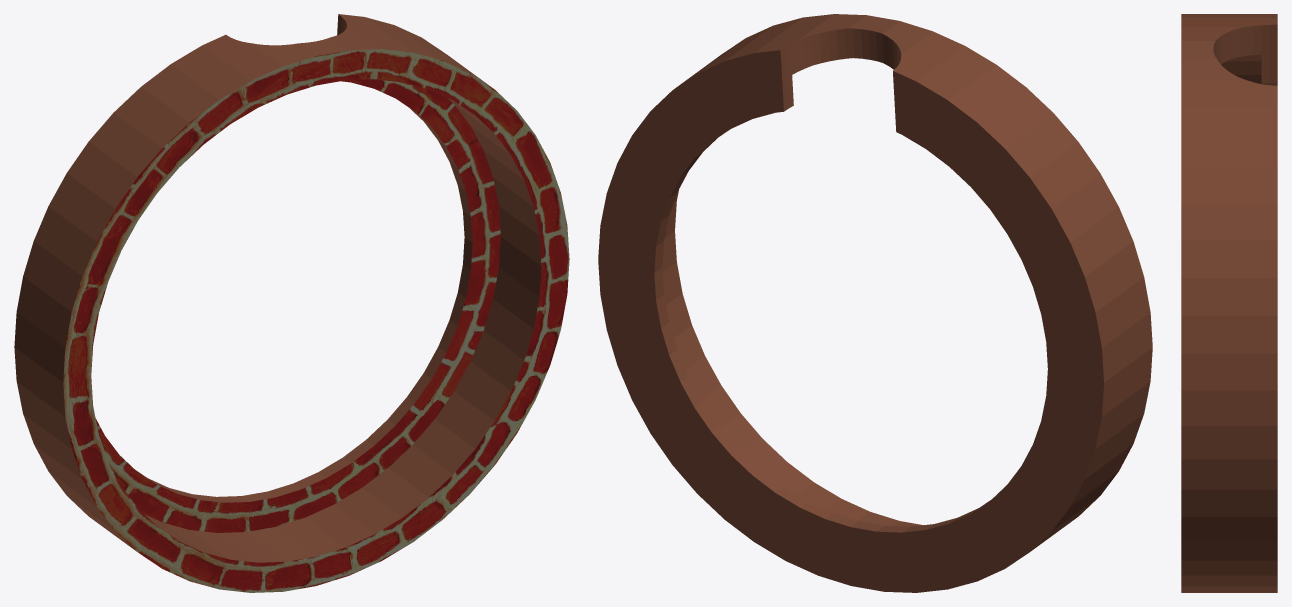
Rendered from pool_067.obj.
The picture shows the model from 3 angles, left to right: view 1: azimuth 30°, elevation 25°; view 2: azimuth 150°, elevation 25°; view 3: azimuth 270°, elevation 25°; orthographic projection.
Bounding box in the file's own units: 18 × 18 × 3.
1 material, 1 textured.
